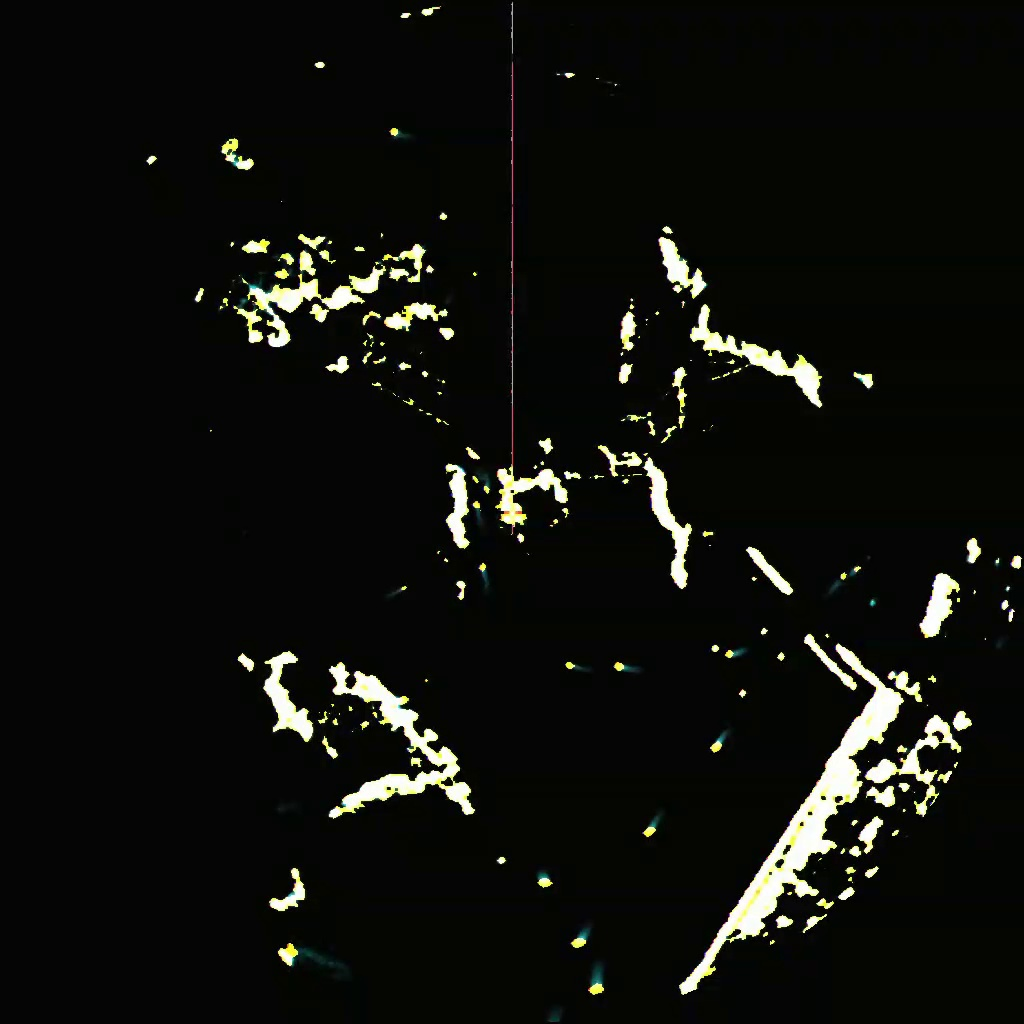B: (470, 561, 508, 595), (382, 583, 424, 606), (612, 655, 649, 678), (566, 926, 597, 952), (561, 654, 600, 674), (638, 807, 663, 838), (845, 558, 868, 590), (720, 643, 751, 665), (584, 965, 608, 992), (704, 732, 727, 757), (829, 567, 846, 597), (536, 869, 557, 893), (468, 500, 487, 525)
